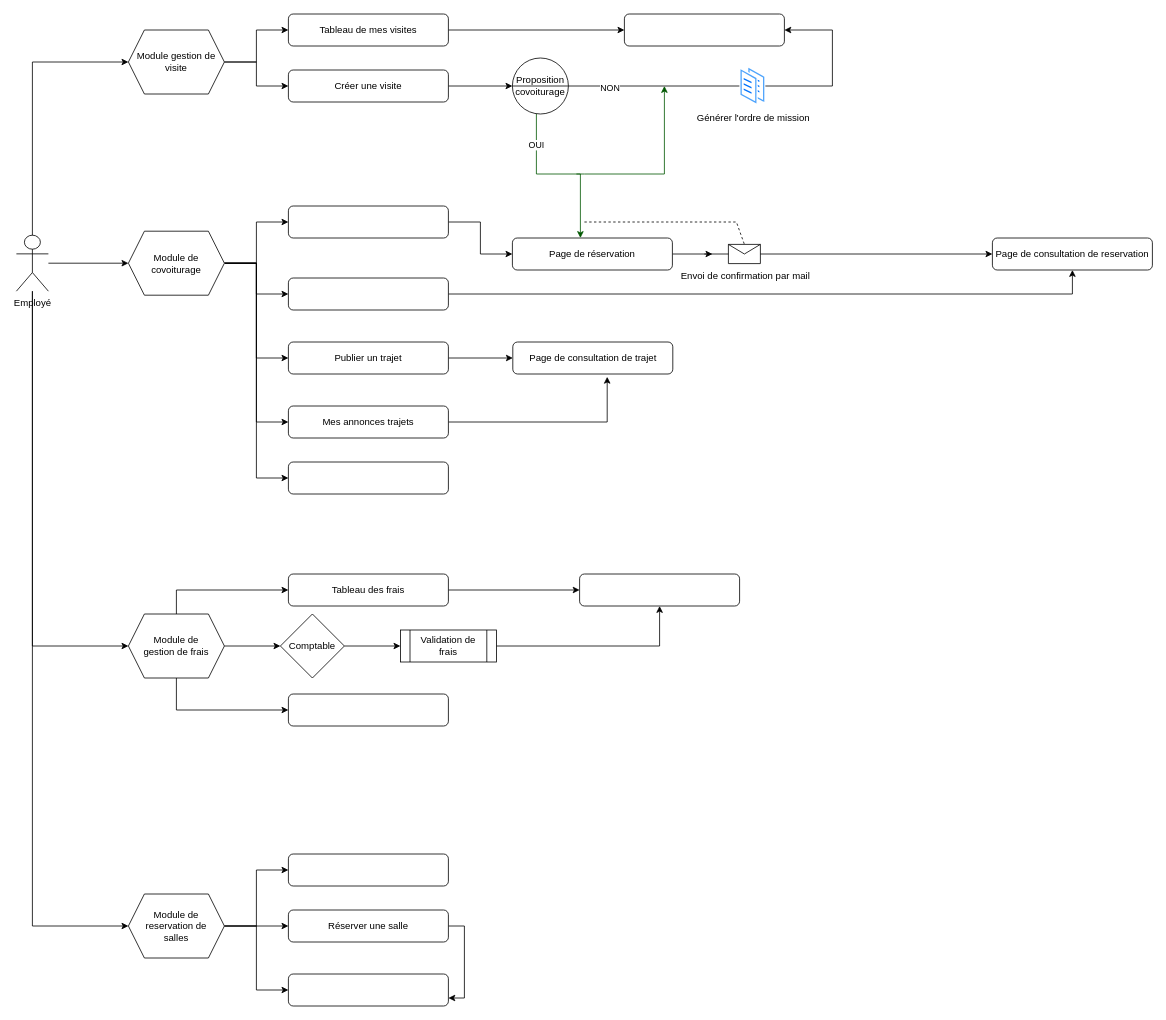
This 1166x1020 diagram has some shape labels left out. Each missing label, with the box of its shape:
Déclarer un frais: (288, 693, 448, 726)
Mes reservations: (288, 277, 448, 310)
Mes reservations de salles: (288, 973, 448, 1006)
Mes véhicules: (288, 461, 448, 494)
Page de consultation de visite: (624, 13, 784, 46)
Page récap de frais: (579, 573, 740, 606)
Planning général des salles: (288, 853, 448, 886)
Rechercher covoiturage: (288, 205, 448, 238)
